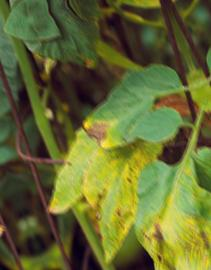Tomato Septoria leaf spot: (63, 115, 200, 269), (14, 98, 156, 231), (114, 150, 211, 264)
